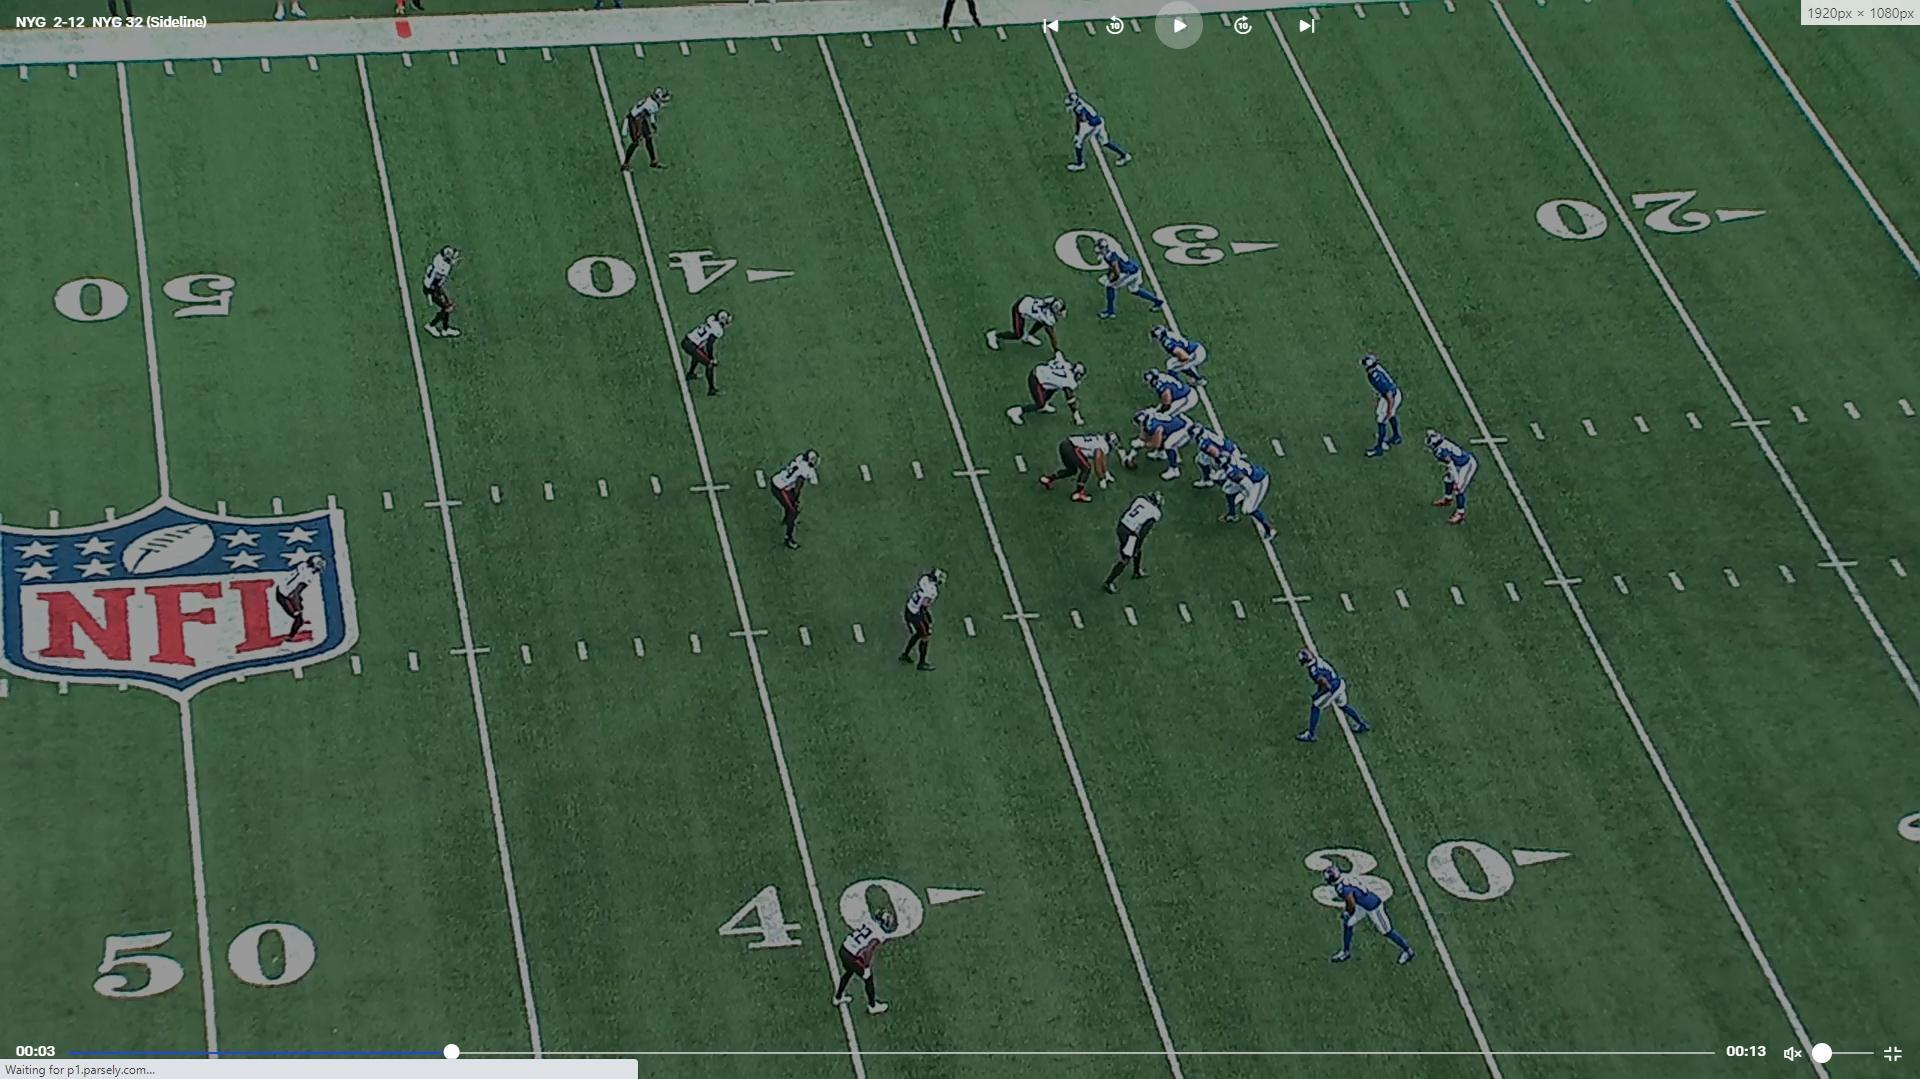player: (1323, 854, 1425, 972), (825, 904, 906, 1021), (1295, 643, 1380, 748), (1094, 489, 1160, 598), (1061, 88, 1134, 179), (1096, 242, 1174, 327), (1038, 431, 1121, 508), (899, 564, 953, 679), (1007, 357, 1092, 429), (773, 445, 827, 555), (614, 83, 674, 182), (266, 549, 326, 648), (1215, 459, 1281, 544), (985, 293, 1069, 358), (1353, 346, 1402, 456), (1427, 428, 1480, 529), (1127, 405, 1199, 478), (684, 307, 739, 401), (420, 242, 468, 347), (1142, 326, 1202, 387), (1189, 428, 1243, 493), (1143, 370, 1204, 419)
ref: (935, 0, 993, 28)
